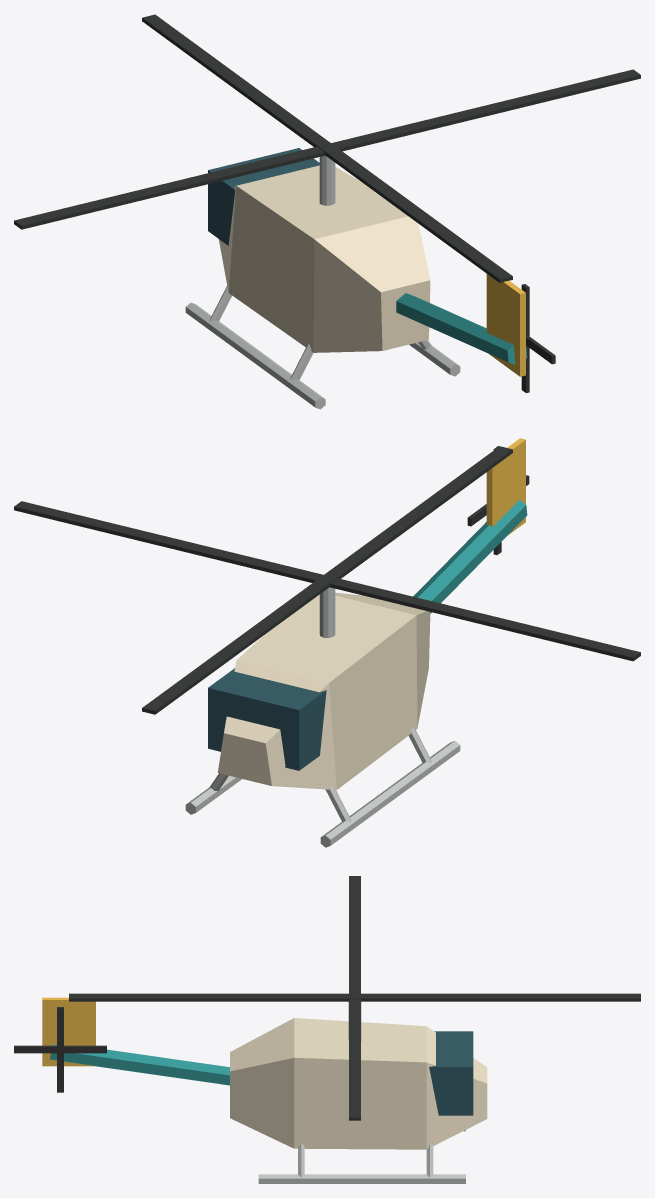
Rendered from helicopter.glb.
3 views of the same model, one above another, from view 1: azimuth 30°, elevation 25°; view 2: azimuth 150°, elevation 25°; view 3: azimuth 270°, elevation 25° (orthographic). The views are drawn at different scales.
Visible parts, largest first — view 1: HelicopterModel traffic_teal, HelicopterModel traffic_rubber, HelicopterModel traffic_metal, Tail fin, Cockpit glass; view 2: HelicopterModel traffic_teal, HelicopterModel traffic_rubber, Cockpit glass, HelicopterModel traffic_metal, Tail fin; view 3: HelicopterModel traffic_teal, HelicopterModel traffic_rubber, Cockpit glass, HelicopterModel traffic_metal, Tail fin.
Part boxes in pixels (box(x1,y1,x2,y2)): HelicopterModel traffic_teal: box(218, 165, 527, 364); HelicopterModel traffic_rubber: box(14, 14, 640, 392); HelicopterModel traffic_metal: box(185, 155, 460, 409); Tail fin: box(486, 274, 525, 376); Cockpit glass: box(208, 148, 319, 245); HelicopterModel traffic_teal: box(217, 500, 527, 789); HelicopterModel traffic_rubber: box(14, 446, 640, 714); Cockpit glass: box(208, 668, 326, 770); HelicopterModel traffic_metal: box(185, 587, 460, 847); Tail fin: box(486, 438, 525, 534); HelicopterModel traffic_teal: box(50, 1018, 487, 1149); HelicopterModel traffic_rubber: box(14, 876, 640, 1120); Cockpit glass: box(429, 1031, 473, 1115); HelicopterModel traffic_metal: box(258, 1002, 465, 1183); Tail fin: box(42, 997, 95, 1066).
Size of the model in its own units: 8 by 2.49 by 8.77.
